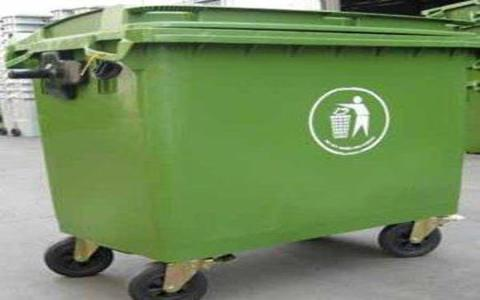Proper garbage: (1, 1, 471, 293)
